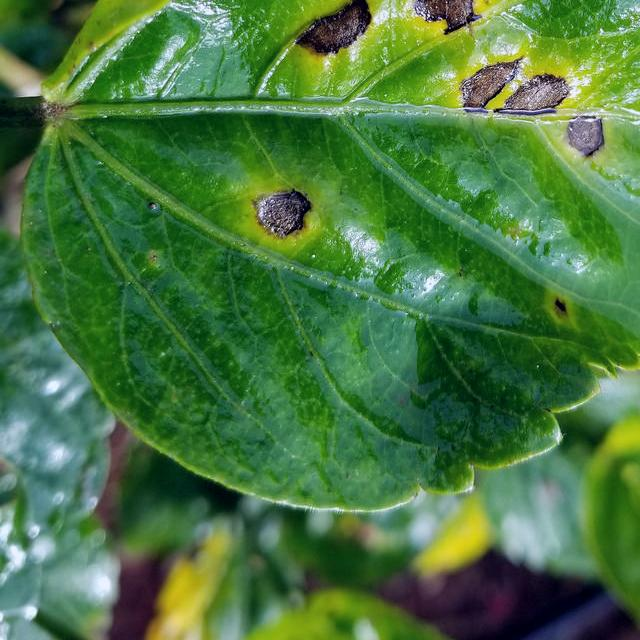Tomato leaf bacterial spot: (23, 0, 640, 524)
